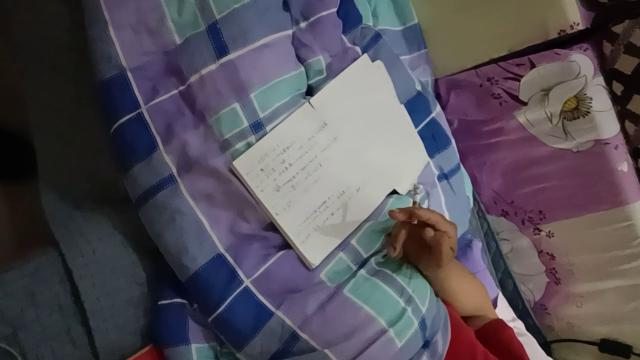Cigarette: (412, 184, 421, 224)
